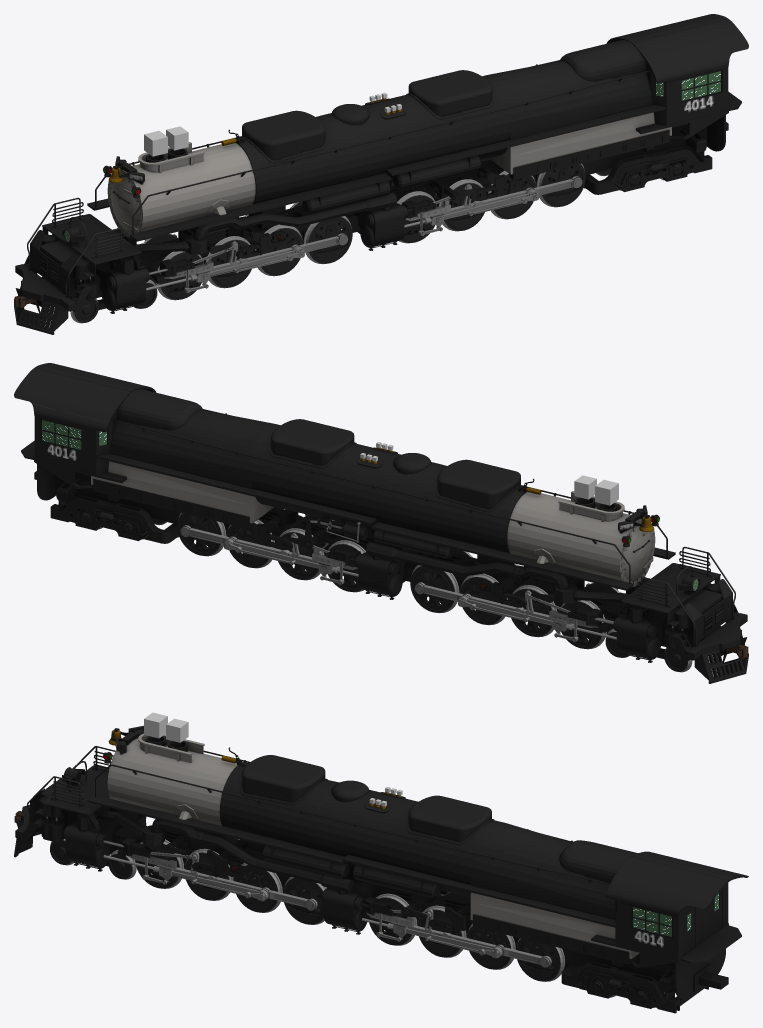
File: big_boy.obj
The picture shows the model from 3 angles, top to bottom: view 1: azimuth 30°, elevation 25°; view 2: azimuth 150°, elevation 25°; view 3: azimuth 330°, elevation 25°; orthographic projection.
Visible parts, largest first — view 1: SMOKEBOX_Cylinder.000, FIREBOX_Cylinder.018, FRONT_LOCOMOTIVE_Mesh.009, CAB_Mesh.002, BOILER_SEGMENT_2_Cylinder.007, BOILER_SEGMENT_1_Cylinder.008, STEAM_CHEST_REAR_Mesh.025, FRAME_Mesh.008, BOGEY_REAR_Mesh.001, PIPING_Mesh.016, STEAM_CHEST_FRONT_Cylinder.006, WHEEL_DRIVER_FRONT_4_Cylinder.033 (+9 smaller); view 2: SMOKEBOX_Cylinder.000, BOILER_SEGMENT_2_Cylinder.007, FRONT_LOCOMOTIVE_Mesh.009, FIREBOX_Cylinder.018, CAB_Mesh.002, BOILER_SEGMENT_1_Cylinder.008, STEAM_CHEST_REAR_Mesh.025, FRAME_Mesh.008, BOGEY_REAR_Mesh.001, STEAM_CHEST_FRONT_Cylinder.006, WHEEL_DRIVER_FRONT_4_Cylinder.033, WHEEL_DRIVER_REAR_4_Cylinder.044 (+9 smaller); view 3: CAB_Mesh.002, SMOKEBOX_Cylinder.000, FIREBOX_Cylinder.018, BOILER_SEGMENT_2_Cylinder.007, FRONT_LOCOMOTIVE_Mesh.009, BOILER_SEGMENT_1_Cylinder.008, STEAM_CHEST_REAR_Mesh.025, FRAME_Mesh.008, BOGEY_REAR_Mesh.001, PIPING_Mesh.016, STEAM_CHEST_FRONT_Cylinder.006, WHEEL_DRIVER_REAR_4_Cylinder.044 (+13 smaller).
Boxes of the visible parts, <box> form: SMOKEBOX_Cylinder.000: <box>87,60,666,241</box>; FIREBOX_Cylinder.018: <box>488,61,671,179</box>; FRONT_LOCOMOTIVE_Mesh.009: <box>14,197,360,334</box>; CAB_Mesh.002: <box>559,14,748,151</box>; BOILER_SEGMENT_2_Cylinder.007: <box>324,70,514,180</box>; BOILER_SEGMENT_1_Cylinder.008: <box>236,110,351,215</box>; STEAM_CHEST_REAR_Mesh.025: <box>114,178,407,256</box>; FRAME_Mesh.008: <box>390,122,728,221</box>; BOGEY_REAR_Mesh.001: <box>574,146,712,194</box>; PIPING_Mesh.016: <box>302,155,480,213</box>; STEAM_CHEST_FRONT_Cylinder.006: <box>95,256,149,313</box>; WHEEL_DRIVER_FRONT_4_Cylinder.033: <box>290,201,352,264</box>; SMOKEBOX_Cylinder.000: <box>96,409,675,590</box>; BOILER_SEGMENT_2_Cylinder.007: <box>248,419,438,542</box>; FRONT_LOCOMOTIVE_Mesh.009: <box>402,546,748,683</box>; FIREBOX_Cylinder.018: <box>91,410,274,528</box>; CAB_Mesh.002: <box>14,363,203,500</box>; BOILER_SEGMENT_1_Cylinder.008: <box>411,459,526,564</box>; STEAM_CHEST_REAR_Mesh.025: <box>355,527,648,605</box>; FRAME_Mesh.008: <box>34,471,372,570</box>; BOGEY_REAR_Mesh.001: <box>50,495,179,543</box>; STEAM_CHEST_FRONT_Cylinder.006: <box>613,605,667,662</box>; WHEEL_DRIVER_FRONT_4_Cylinder.033: <box>410,548,472,613</box>; WHEEL_DRIVER_REAR_4_Cylinder.044: <box>177,512,227,556</box>; CAB_Mesh.002: <box>559,840,748,998</box>; SMOKEBOX_Cylinder.000: <box>87,725,616,927</box>; FIREBOX_Cylinder.018: <box>470,822,639,964</box>; BOILER_SEGMENT_2_Cylinder.007: <box>312,780,501,897</box>; FRONT_LOCOMOTIVE_Mesh.009: <box>14,746,328,910</box>; BOILER_SEGMENT_1_Cylinder.008: <box>219,755,338,853</box>; STEAM_CHEST_REAR_Mesh.025: <box>97,810,385,934</box>; FRAME_Mesh.008: <box>361,887,728,991</box>; BOGEY_REAR_Mesh.001: <box>561,961,708,1013</box>; PIPING_Mesh.016: <box>262,845,440,898</box>; STEAM_CHEST_FRONT_Cylinder.006: <box>63,806,146,871</box>; WHEEL_DRIVER_REAR_4_Cylinder.044: <box>516,938,564,981</box>.
Bounding box in the file's own units: 27.5 × 5.89 × 3.63.
Materials: 4 (3 with a texture image).
